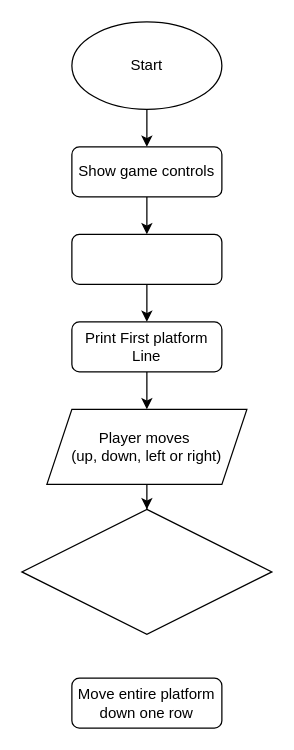
This 294x750 diagram has some shape labels left out. The shapes that lost their labels are listed below. From the top down, each one's centre as x and y in pixels, then its label:
At point 146,258: "Show Game Screen".
At point 146,571: "Did the player move onto another tile space?".
